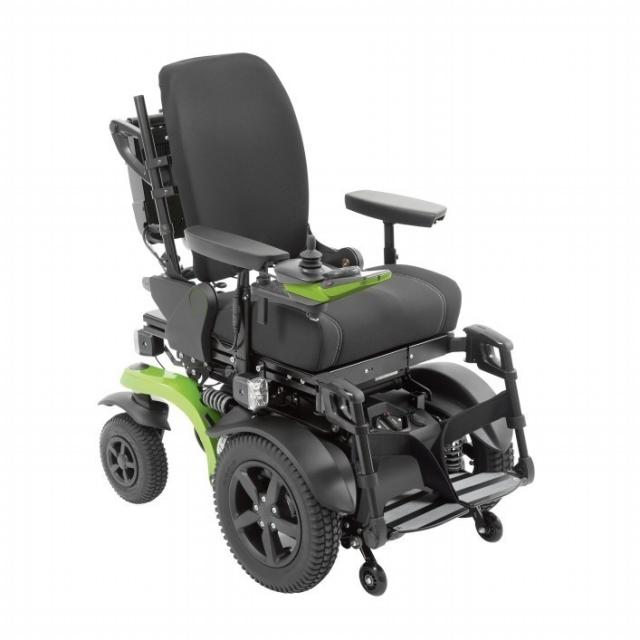wheelchair: (91, 40, 548, 606)
